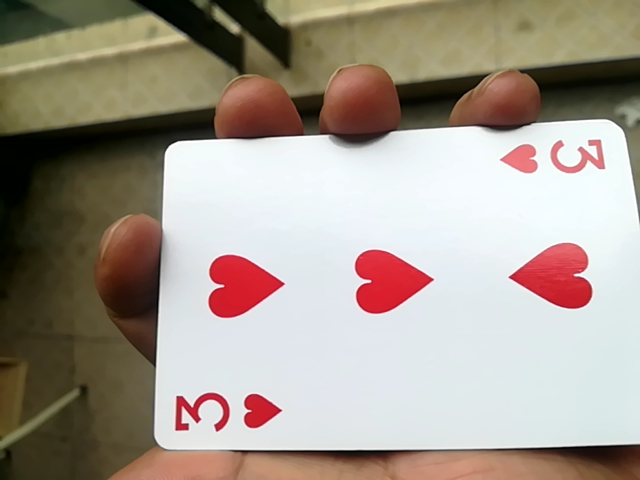hx 3: (136, 124, 633, 471)
